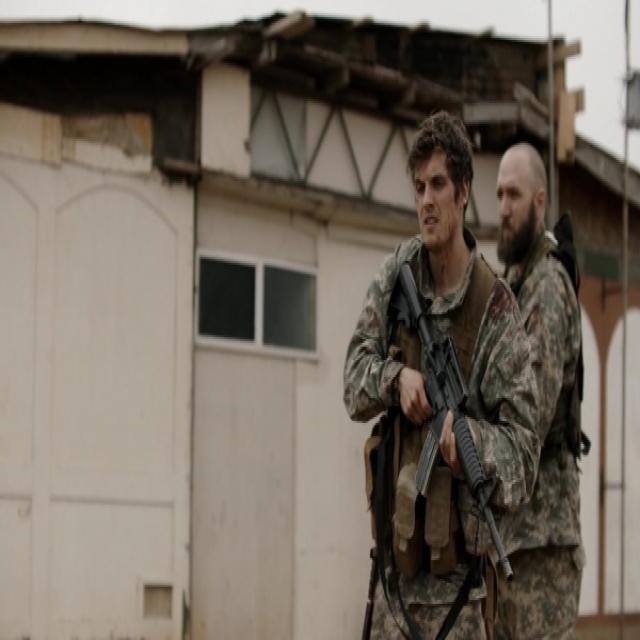rifle: (393, 257, 522, 592)
